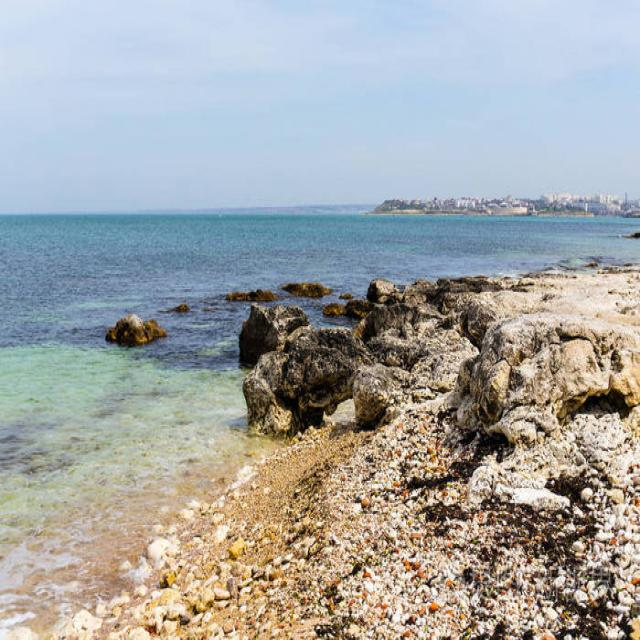reef: (106, 248, 448, 374)
